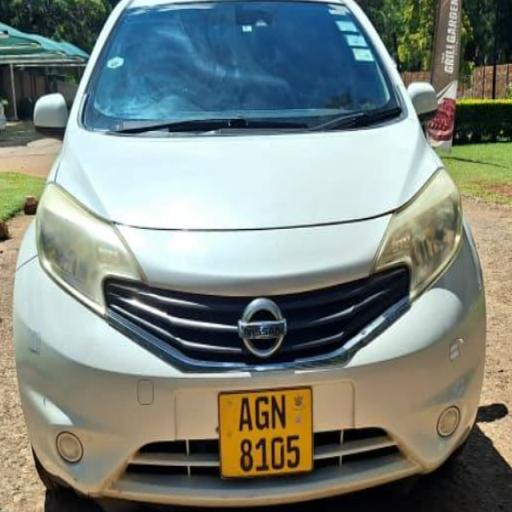number-plates: (219, 388, 309, 472)
